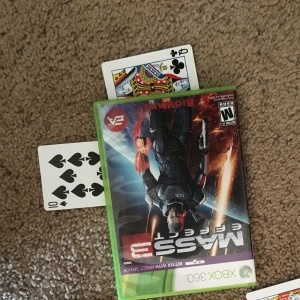card: (101, 42, 199, 101), (37, 139, 107, 211)
